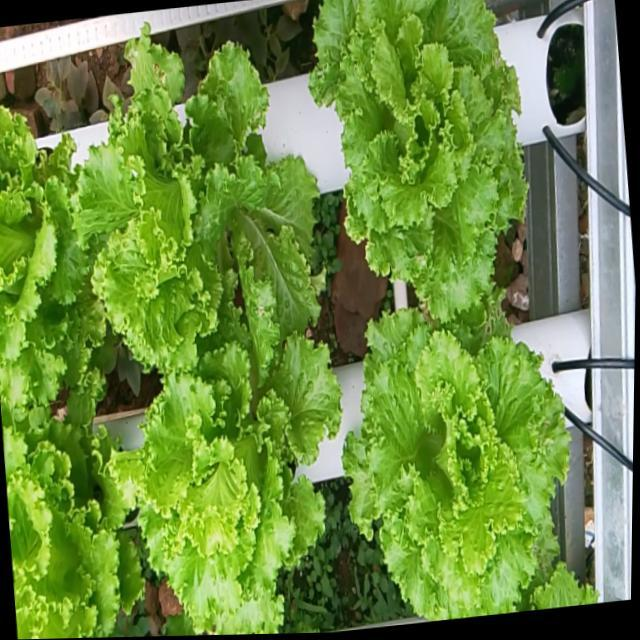Mature: (40, 17, 305, 373), (322, 287, 578, 625), (290, 0, 518, 333), (71, 334, 322, 636)
